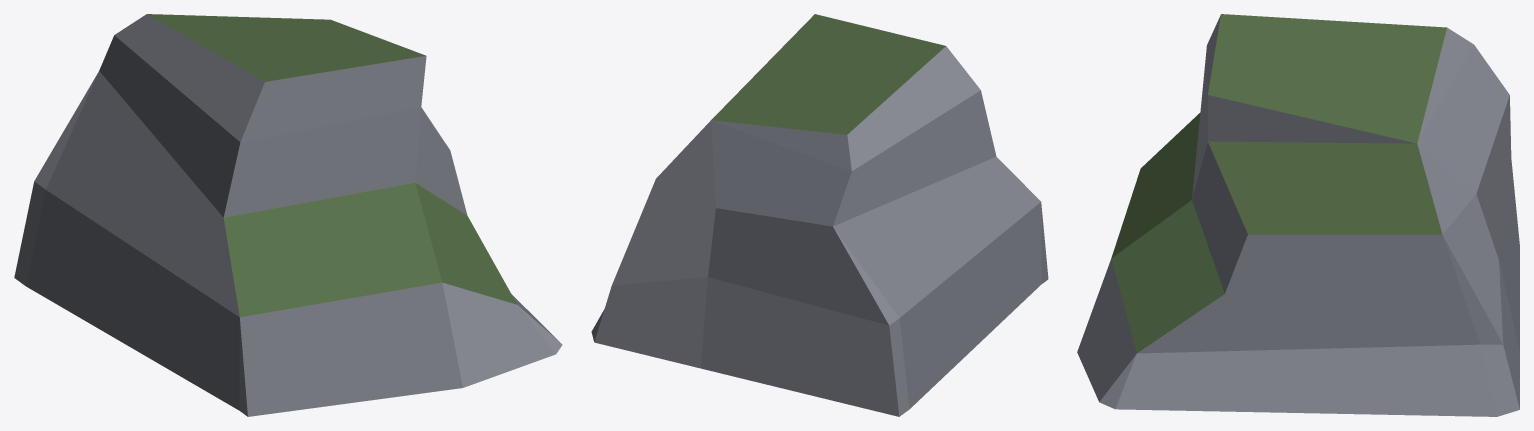
Rendered from Rock Moss 3.glb.
3 views of the same model, side by side, from view 1: azimuth 30°, elevation 25°; view 2: azimuth 150°, elevation 25°; view 3: azimuth 270°, elevation 25° (orthographic). The views are drawn at different scales.
Parts seen in each view (by area): view 1: Rock_Moss_3; view 2: Rock_Moss_3; view 3: Rock_Moss_3.
Boxes of the visible parts, x1,y1,x2,y2 form: Rock_Moss_3: (14, 14, 562, 416); Rock_Moss_3: (591, 14, 1048, 416); Rock_Moss_3: (1077, 14, 1519, 416).
Size of the model in its own units: 0.7384 by 0.5567 by 0.8026.
